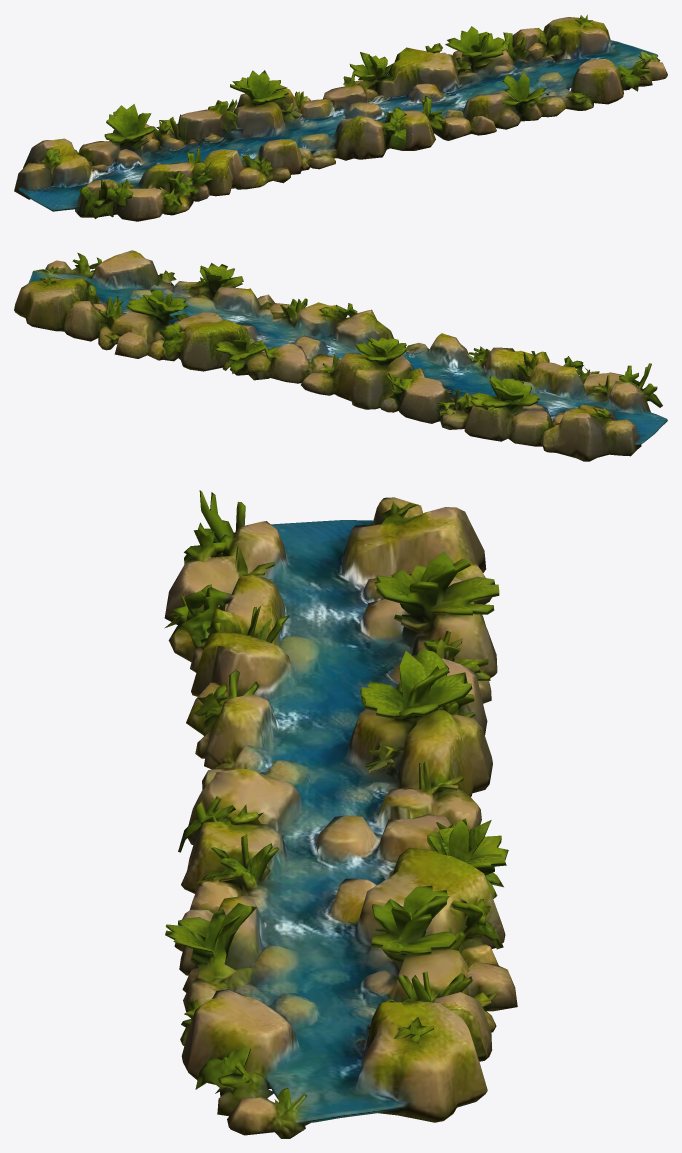
The model's file is rocky stream 3d model.glb.
3 renders of one model, top to bottom at view 1: azimuth 30°, elevation 25°; view 2: azimuth 150°, elevation 25°; view 3: azimuth 270°, elevation 25°, orthographic. The views are drawn at different scales.
Parts seen in each view (by area): view 1: tripo_node_1fc98d8d-57e9-410f-bbfc-65884aa0d7e5; view 2: tripo_node_1fc98d8d-57e9-410f-bbfc-65884aa0d7e5; view 3: tripo_node_1fc98d8d-57e9-410f-bbfc-65884aa0d7e5.
Part boxes in pixels (x1,y1,x2,y2): tripo_node_1fc98d8d-57e9-410f-bbfc-65884aa0d7e5: (14, 14, 667, 221); tripo_node_1fc98d8d-57e9-410f-bbfc-65884aa0d7e5: (14, 250, 667, 461); tripo_node_1fc98d8d-57e9-410f-bbfc-65884aa0d7e5: (164, 490, 517, 1138).
Size of the model in its own units: 1 by 0.0923 by 0.2476.
1 material, 1 textured.
